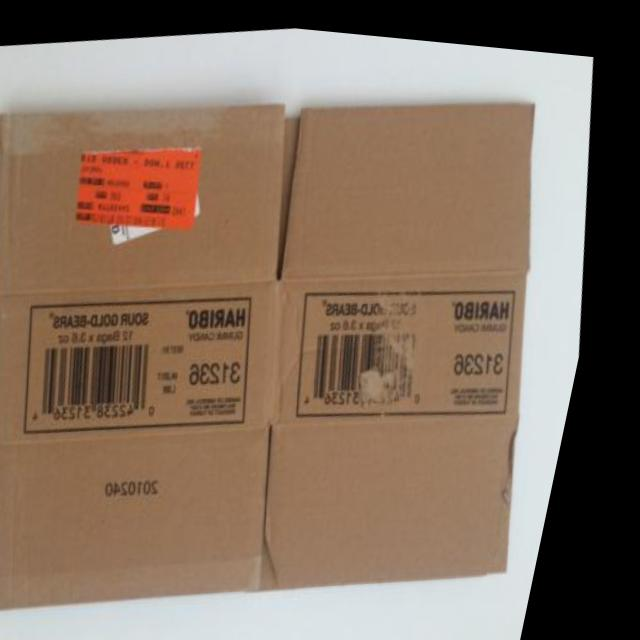cardboard: (0, 1, 639, 640)
